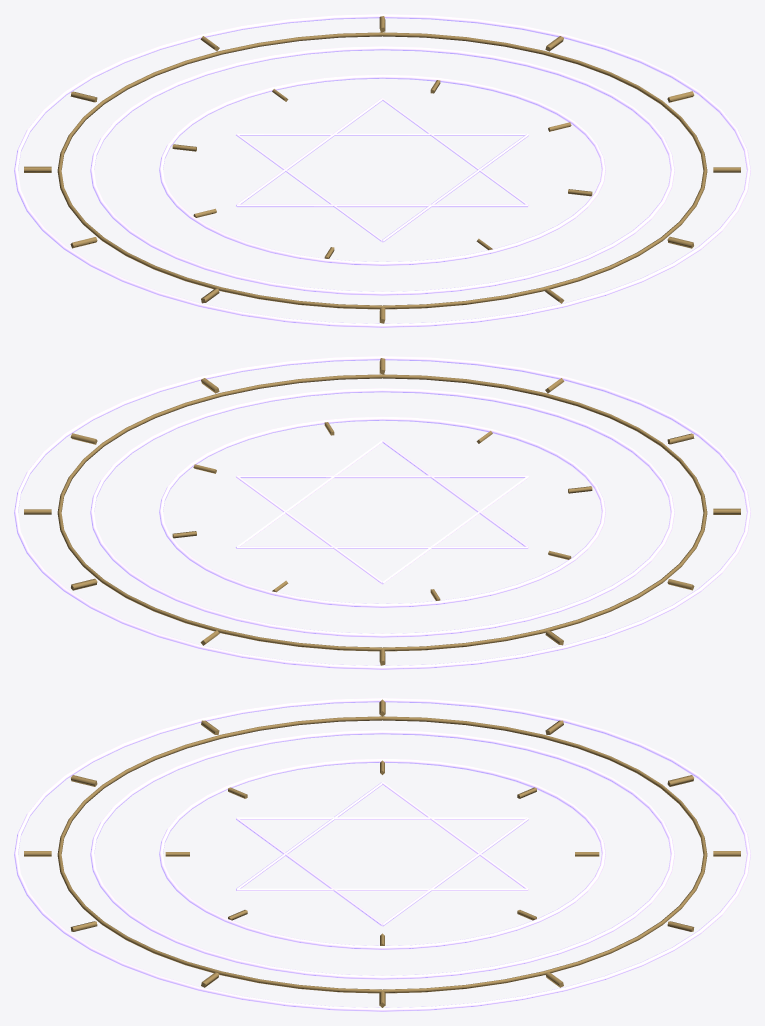
The model's file is rune-floor-circle.glb.
3 views of the same model, one above another, from view 1: azimuth 30°, elevation 25°; view 2: azimuth 150°, elevation 25°; view 3: azimuth 270°, elevation 25° (orthographic).
Parts seen in each view (by area): view 1: CraftingFloorCircle_rune, CraftingFloorCircle_gold; view 2: CraftingFloorCircle_rune, CraftingFloorCircle_gold; view 3: CraftingFloorCircle_rune, CraftingFloorCircle_gold.
Boxes of the visible parts, left/top/right/bottom form: CraftingFloorCircle_rune: left=14, top=14, right=750, bottom=327; CraftingFloorCircle_gold: left=24, top=16, right=740, bottom=323; CraftingFloorCircle_rune: left=14, top=356, right=750, bottom=669; CraftingFloorCircle_gold: left=24, top=358, right=740, bottom=665; CraftingFloorCircle_rune: left=14, top=698, right=750, bottom=1011; CraftingFloorCircle_gold: left=24, top=699, right=740, bottom=1007.
Size of the model in its own units: 4.06 by 0.0364 by 4.06.
